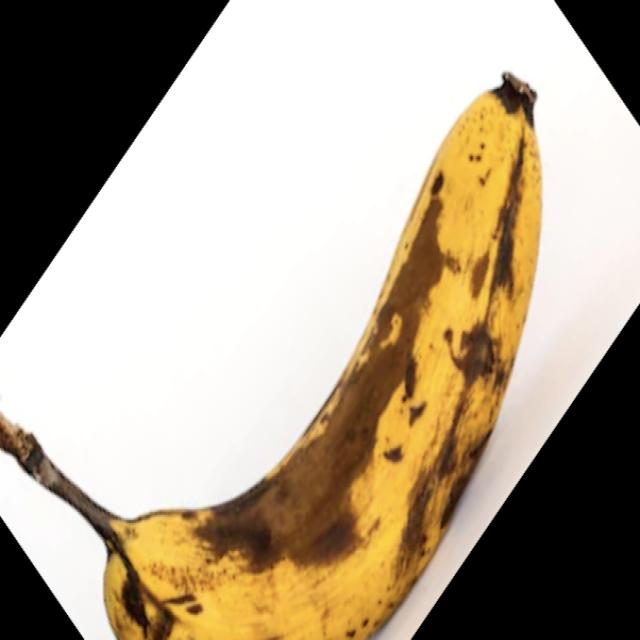overripe: (0, 64, 551, 640)
